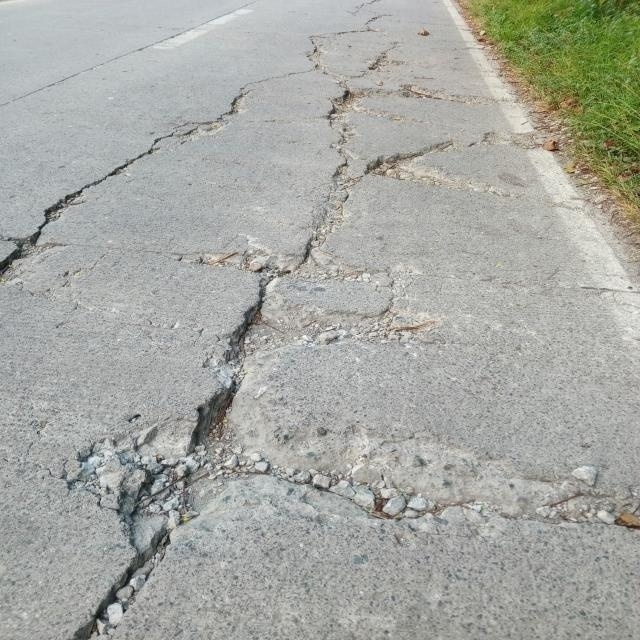pothole: (10, 64, 608, 556)
